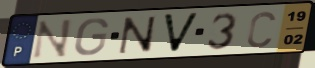3: (206, 11, 239, 51)
C: (245, 10, 278, 49)
G: (72, 17, 111, 57)
N: (30, 17, 75, 61), (117, 15, 158, 56)
V: (161, 11, 202, 54)
